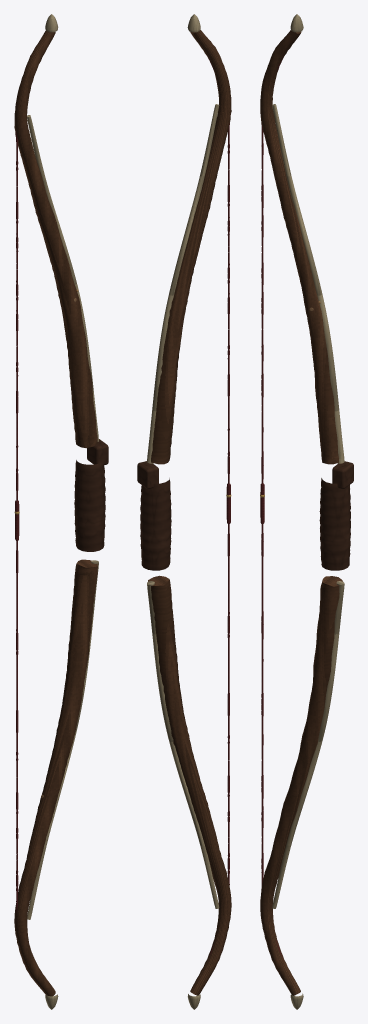
File: recurve-bow.lod1.glb
The picture shows the model from 3 angles, left to right: view 1: azimuth 30°, elevation 25°; view 2: azimuth 210°, elevation 25°; view 3: azimuth 330°, elevation 25°; orthographic projection.
Parts seen in each view (by area): view 1: wood / oiled hardwood, leather / oiled leather wrap, horn / polished horn and bone, cord / waxed silk cord wrap; view 2: wood / oiled hardwood, horn / polished horn and bone, leather / oiled leather wrap, cord / waxed silk cord wrap; view 3: wood / oiled hardwood, horn / polished horn and bone, leather / oiled leather wrap, cord / waxed silk cord wrap.
Part boxes in pixels (<box>): wood / oiled hardwood: <box>14,30,97,996</box>; leather / oiled leather wrap: <box>74,439,108,551</box>; horn / polished horn and bone: <box>27,14,98,1009</box>; cord / waxed silk cord wrap: <box>15,131,19,913</box>; wood / oiled hardwood: <box>148,30,231,995</box>; horn / polished horn and bone: <box>147,14,219,1009</box>; leather / oiled leather wrap: <box>137,461,171,570</box>; cord / waxed silk cord wrap: <box>207,57,230,960</box>; wood / oiled hardwood: <box>260,30,342,995</box>; horn / polished horn and bone: <box>272,14,344,1009</box>; leather / oiled leather wrap: <box>319,461,353,570</box>; cord / waxed silk cord wrap: <box>260,57,283,960</box>.
Bounding box in the file's own units: 0.1394 × 1.49 × 0.0427.
7 materials, 5 textured.
